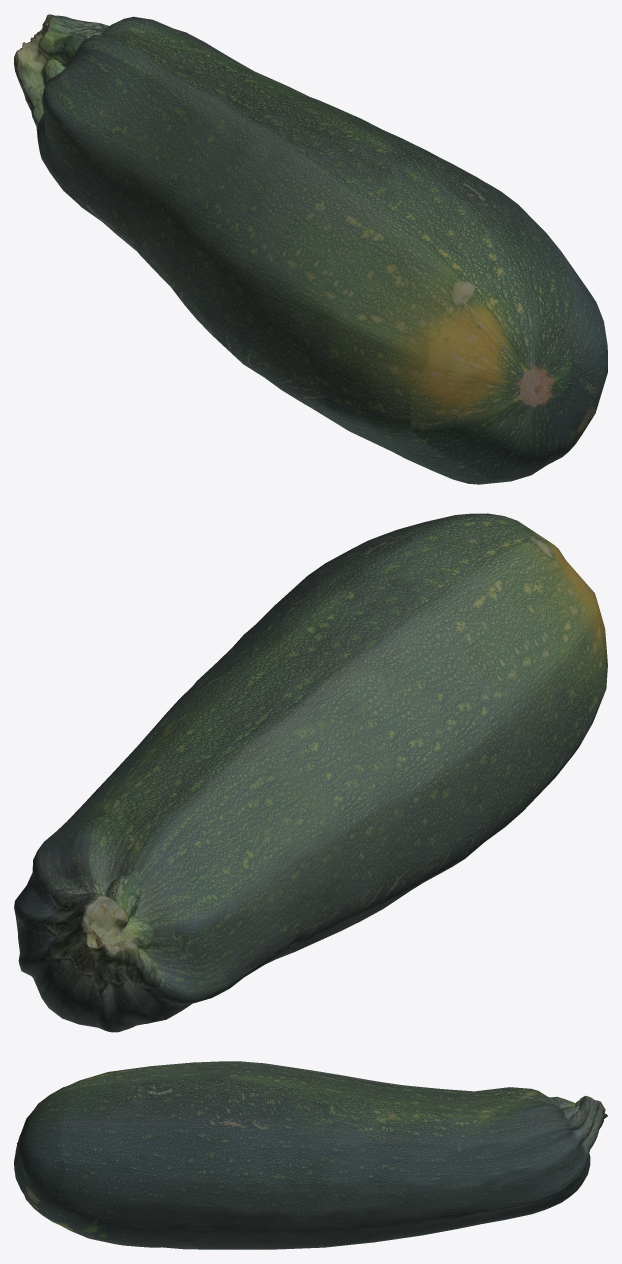
3 renders of one model, top to bottom at view 1: azimuth 30°, elevation 25°; view 2: azimuth 150°, elevation 25°; view 3: azimuth 270°, elevation 25°, orthographic. The views are drawn at different scales.
Parts seen in each view (by area): view 1: Zucchini scan; view 2: Zucchini scan; view 3: Zucchini scan.
Boxes of the visible parts, box(x1,y1,x2,y2) form: Zucchini scan: box(14, 14, 607, 484); Zucchini scan: box(14, 513, 607, 1032); Zucchini scan: box(14, 1061, 607, 1249).
Size of the model in its own units: 0.1534 by 0.493 by 0.1545.
Materials: 1 (1 with a texture image).
